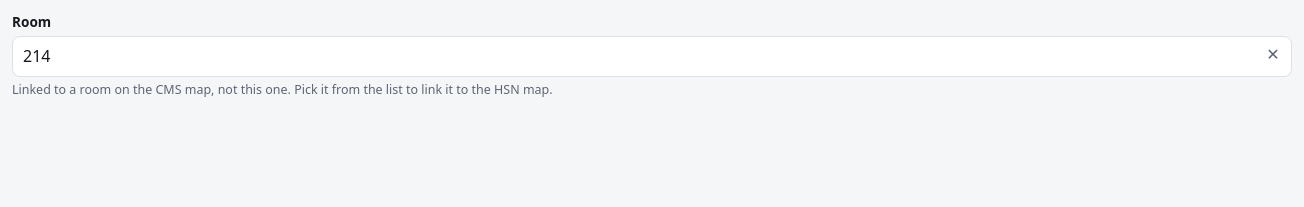
Test case: RoomPicker › shows a room picked on another school's map as text, not as this map's room
Expected: the text "On the map" is not shown
Expected: the text "Linked to a room on the CMS map, not this one. Pick it from the list to link it to the HSN map." is shown, [12,81,552,98]
Focus the dropdown labelled "Room" at point(652, 56), box [12,36,1292,77]
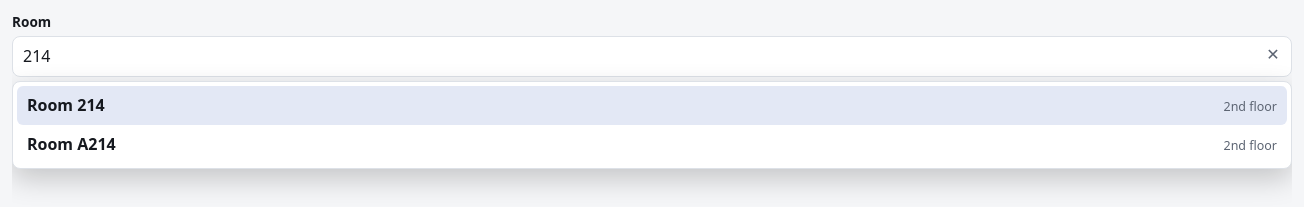
Click the option "Room 214 2nd floor" at point(66, 105), box [17,86,1287,125]
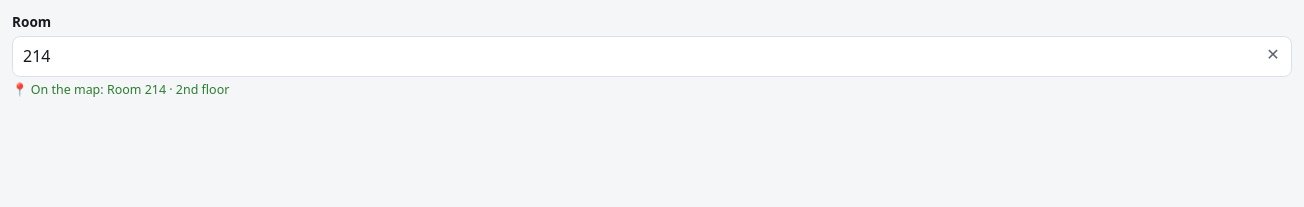
Expected: the text "📍 On the map: Room 214 · 2nd floor" is shown, [12,81,229,98]
